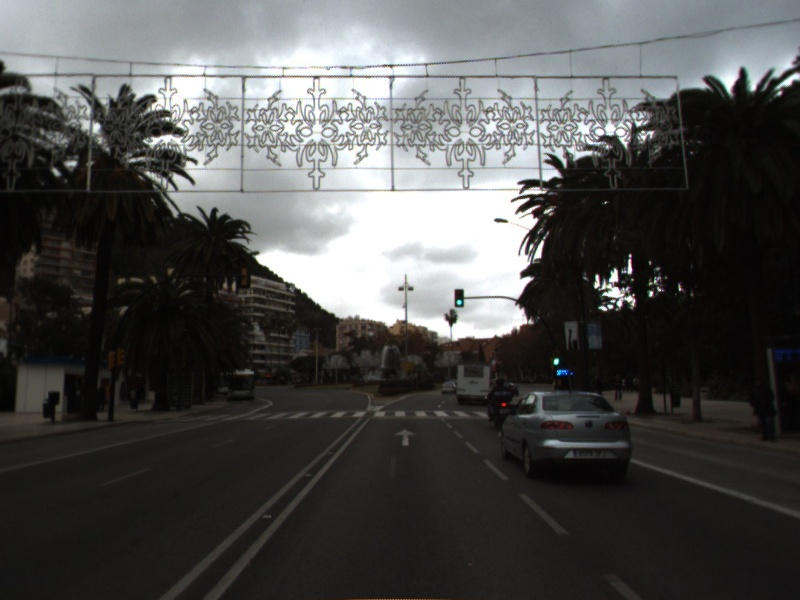STRAIGHT: (392, 426, 419, 448)
